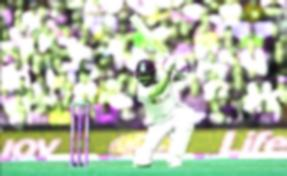batsman: (112, 17, 202, 176)
